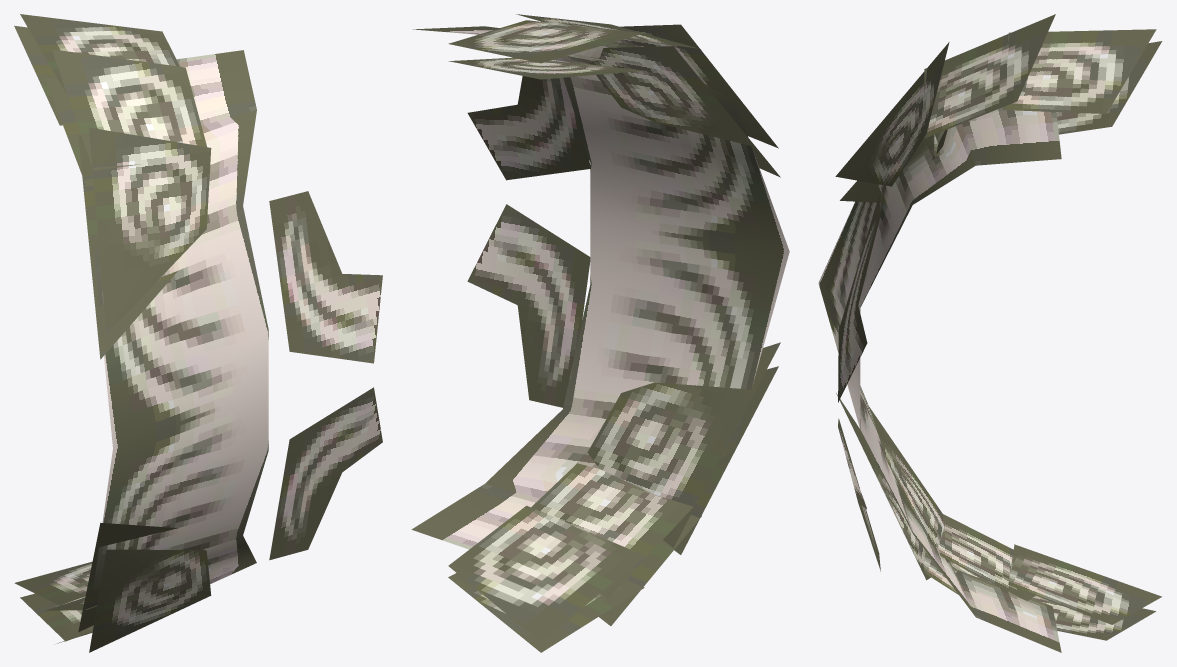
File: acc_beard_king.dae
3 renders of one model, left to right at view 1: azimuth 30°, elevation 25°; view 2: azimuth 150°, elevation 25°; view 3: azimuth 270°, elevation 25°, orthographic.
Parts seen in each view (by area): view 1: acc_beard_king; view 2: acc_beard_king; view 3: acc_beard_king.
Boxes of the visible parts, x1,y1,x2,y2 form: acc_beard_king: (14, 14, 382, 652); acc_beard_king: (411, 14, 789, 652); acc_beard_king: (818, 14, 1162, 652).
Size of the model in its own units: 12.98 by 24.92 by 13.08.
1 material, 1 textured.
